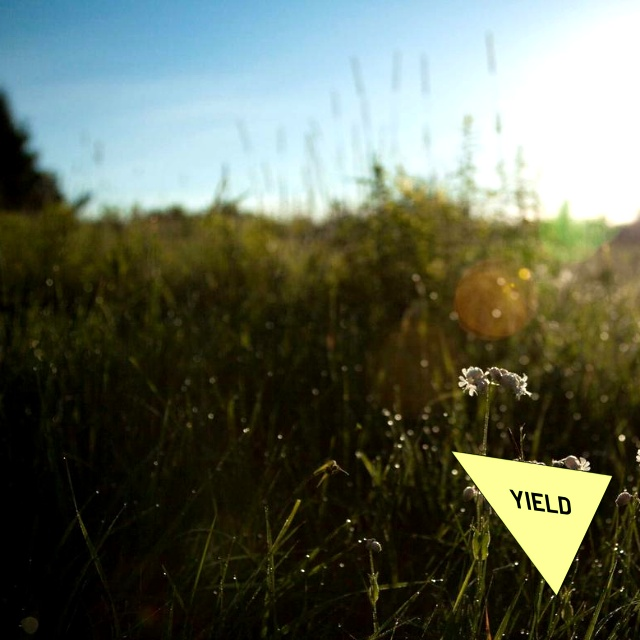YIELD: (449, 450, 614, 597)
